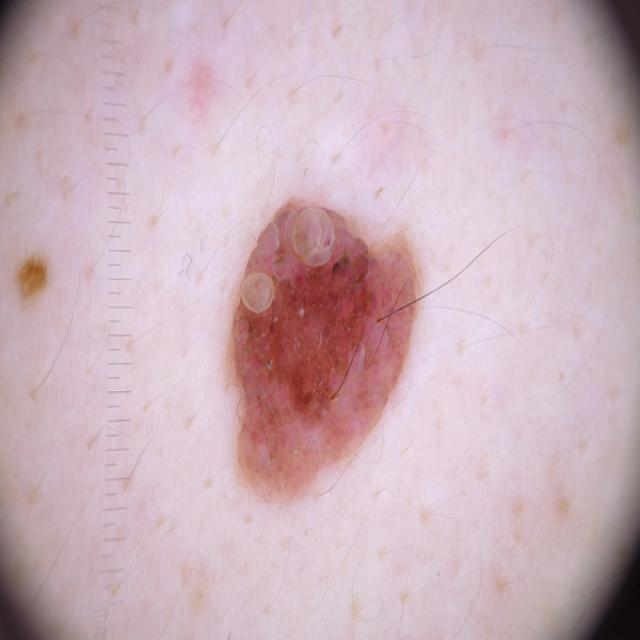NV: (223, 195, 423, 503)
